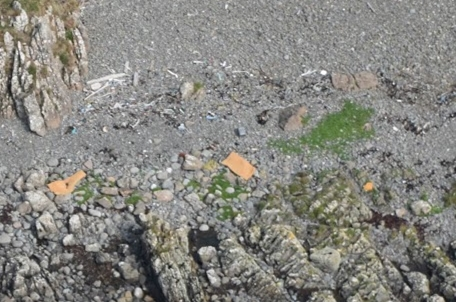white_in_green: (31, 146, 107, 213), (202, 131, 278, 198)
